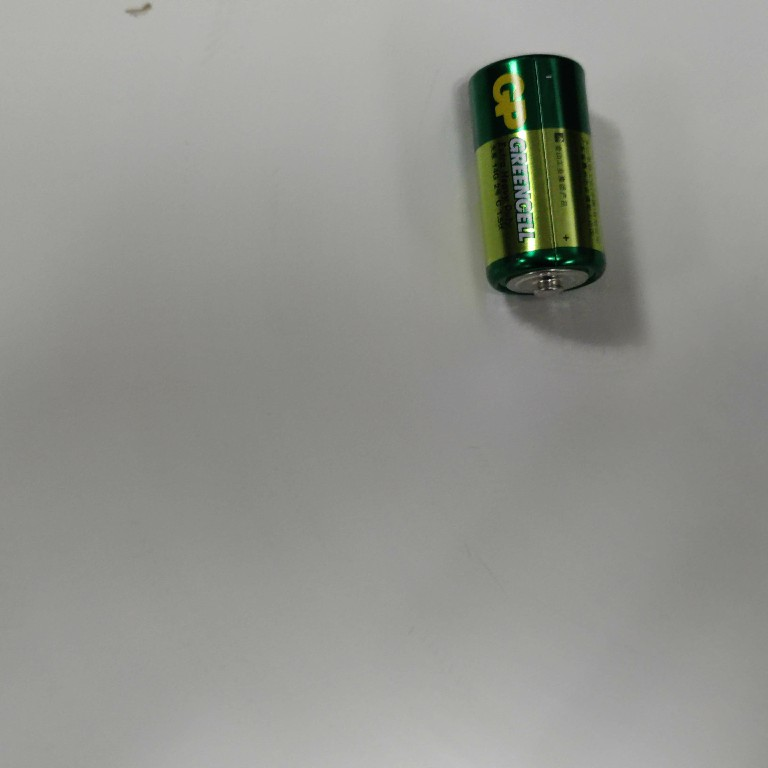charge: (463, 50, 610, 304)
